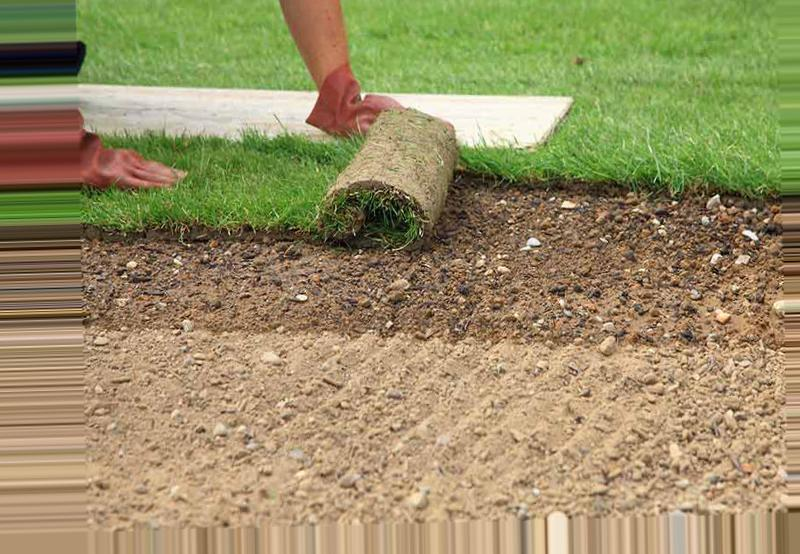patch: (109, 259, 781, 507), (461, 219, 760, 277)
